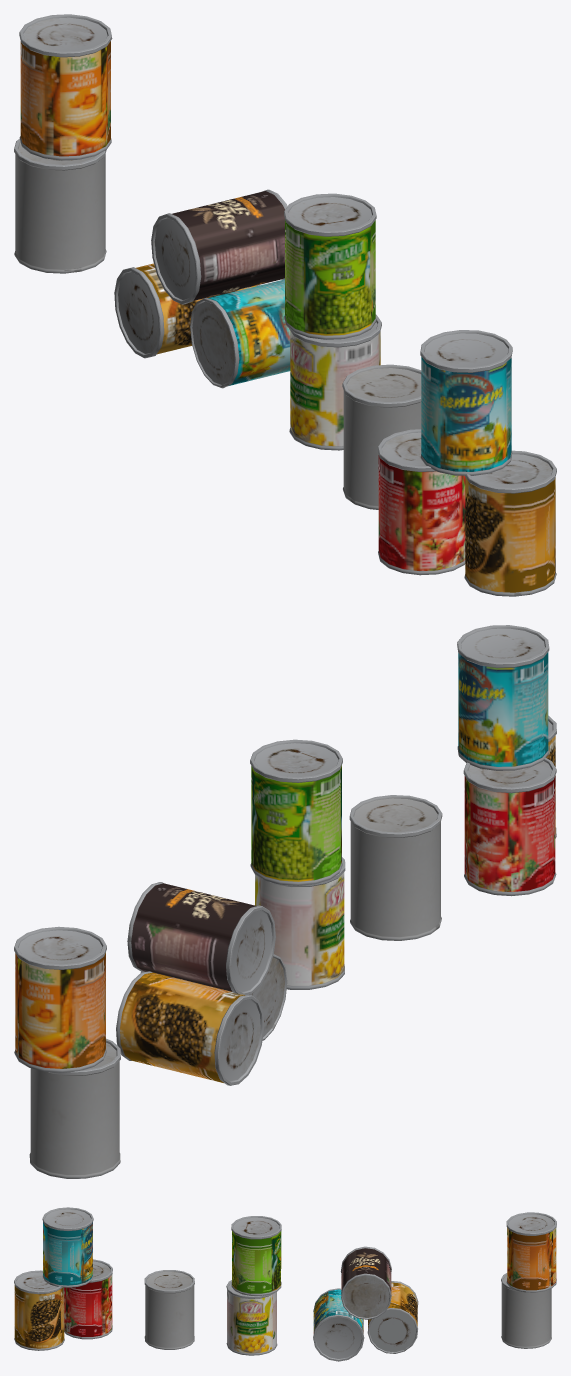
The model's file is Prop_Preserves_All_2.fbx.
3 renders of one model, top to bottom at view 1: azimuth 30°, elevation 25°; view 2: azimuth 150°, elevation 25°; view 3: azimuth 270°, elevation 25°, orthographic. The views are drawn at different scales.
Visible parts, largest first — view 1: Prop_Preserves_All_2; view 2: Prop_Preserves_All_2; view 3: Prop_Preserves_All_2.
Part boxes in pixels (x1,y1,x2,y2): Prop_Preserves_All_2: (14,14,556,596); Prop_Preserves_All_2: (14,625,556,1178); Prop_Preserves_All_2: (14,1207,556,1361).
Size of the model in its own units: 11.86 by 15.37 by 63.43.
